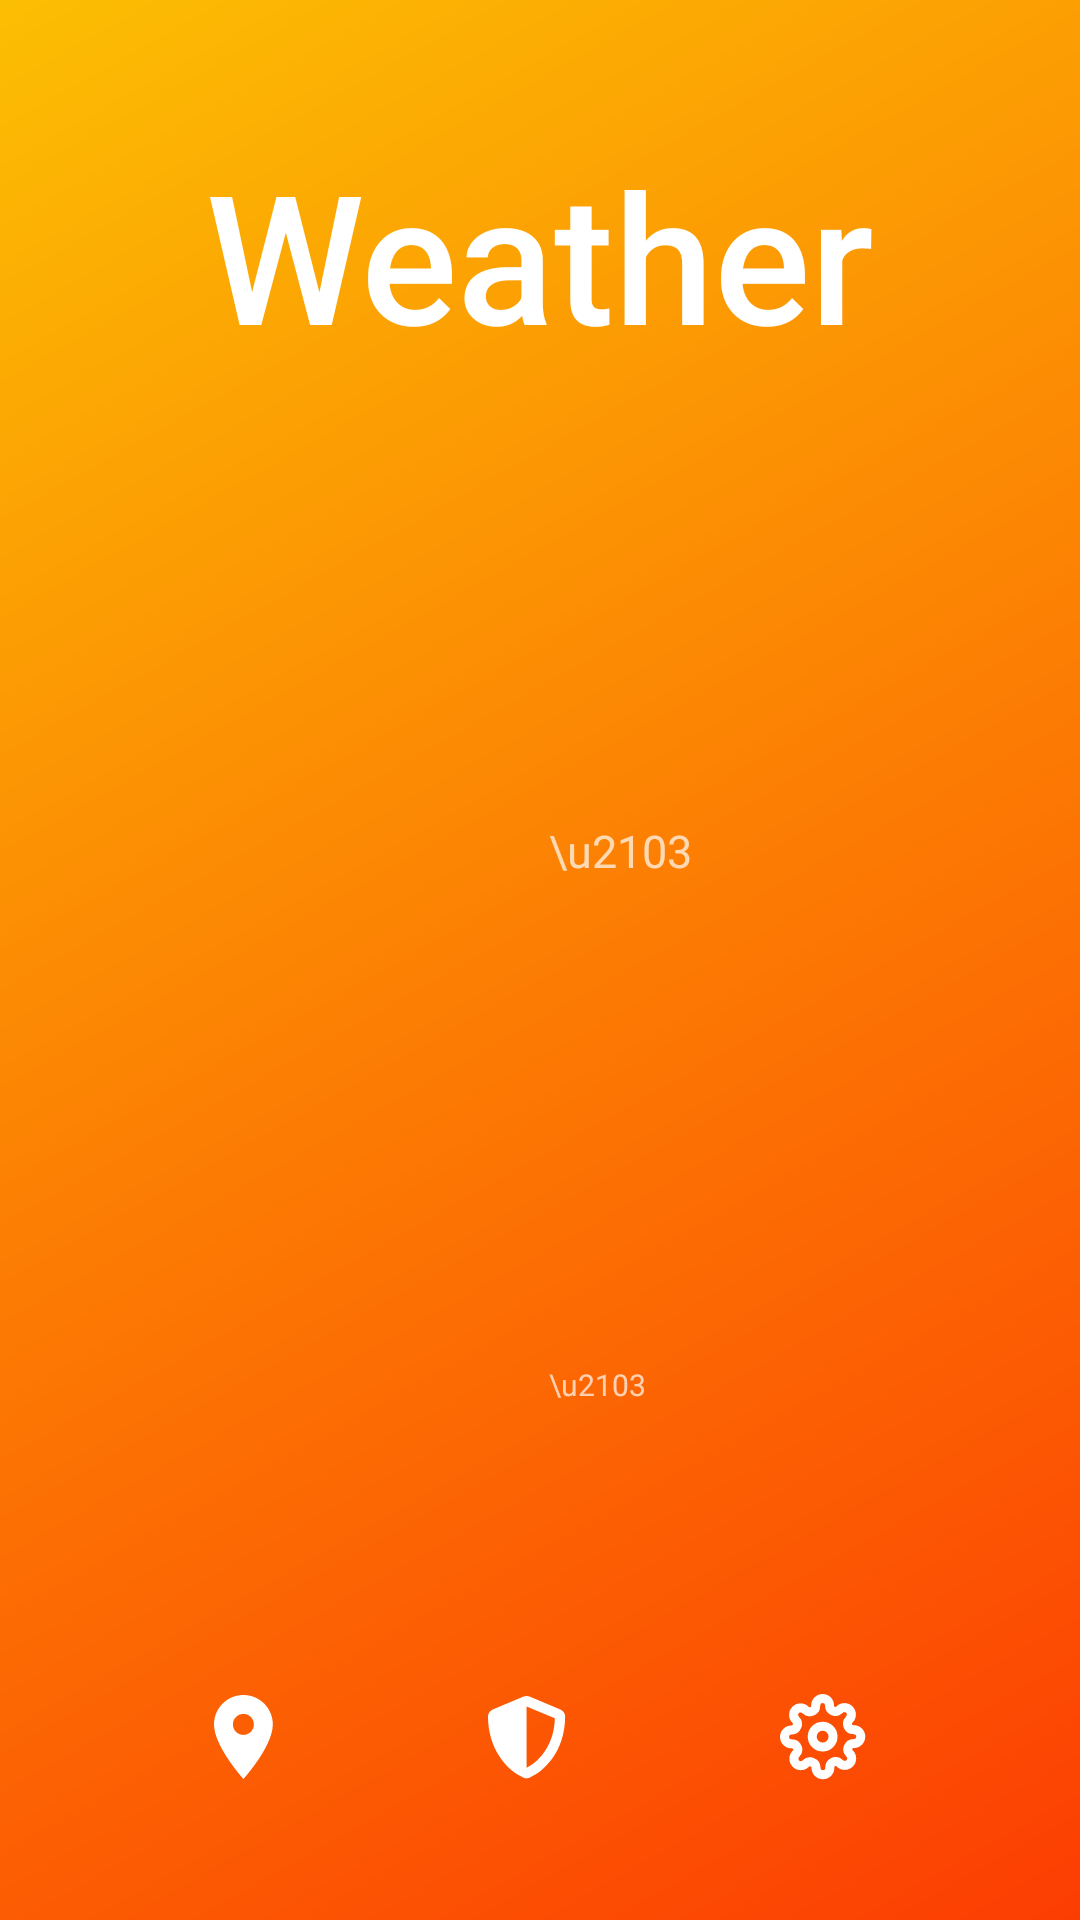

Icon bounding boxes for this 1080px×1920px phone screenshot, format (x1, y1, x2, y2):
awesome shield: (488, 1696, 565, 1779)
feather settings: (780, 1694, 866, 1780)
location on: (214, 1695, 273, 1779)
